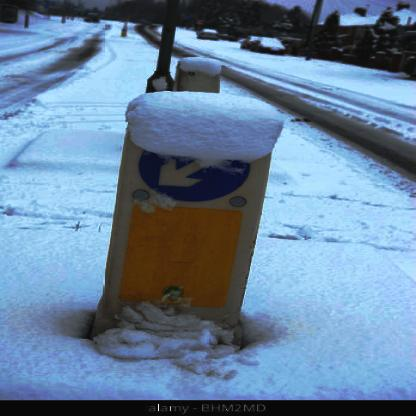Keep left: (136, 136, 263, 207)
